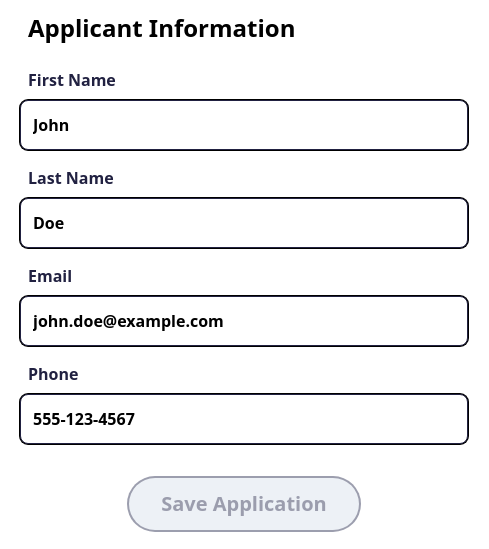
Test case: ApplicationForm › Form Submission › disables submit button while mutation is pending
Replace the text in the field labelled "First Name" with "Updated Name". click: (244, 125)
box: [20,100,468,150]
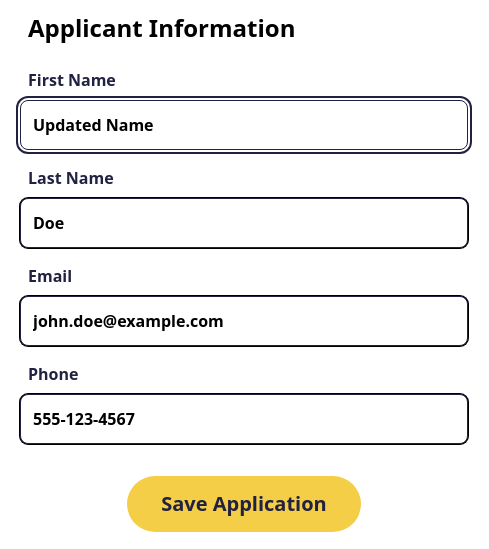
Click the button "Save Application". click: (244, 504)
box: [127,476,361,532]
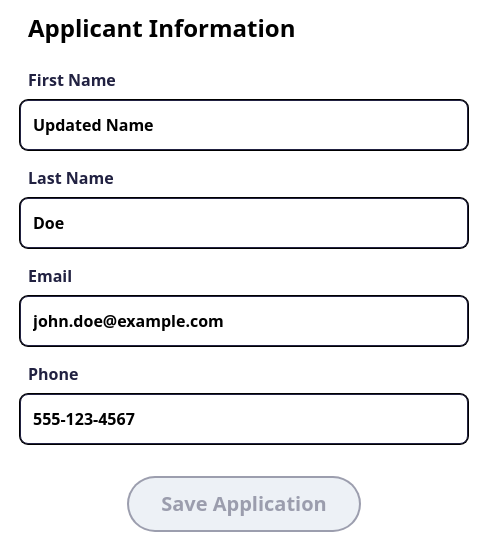
Check: the button "Save Application" is disabled, box [127,476,361,532]
